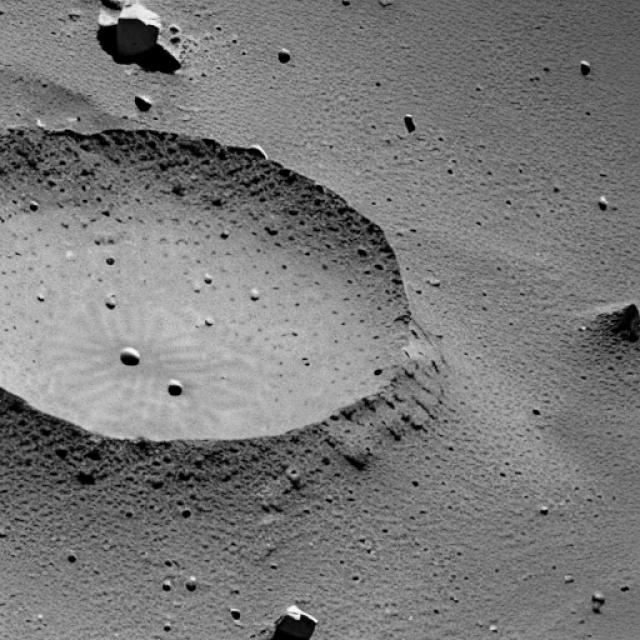crater: (0, 126, 407, 446)
